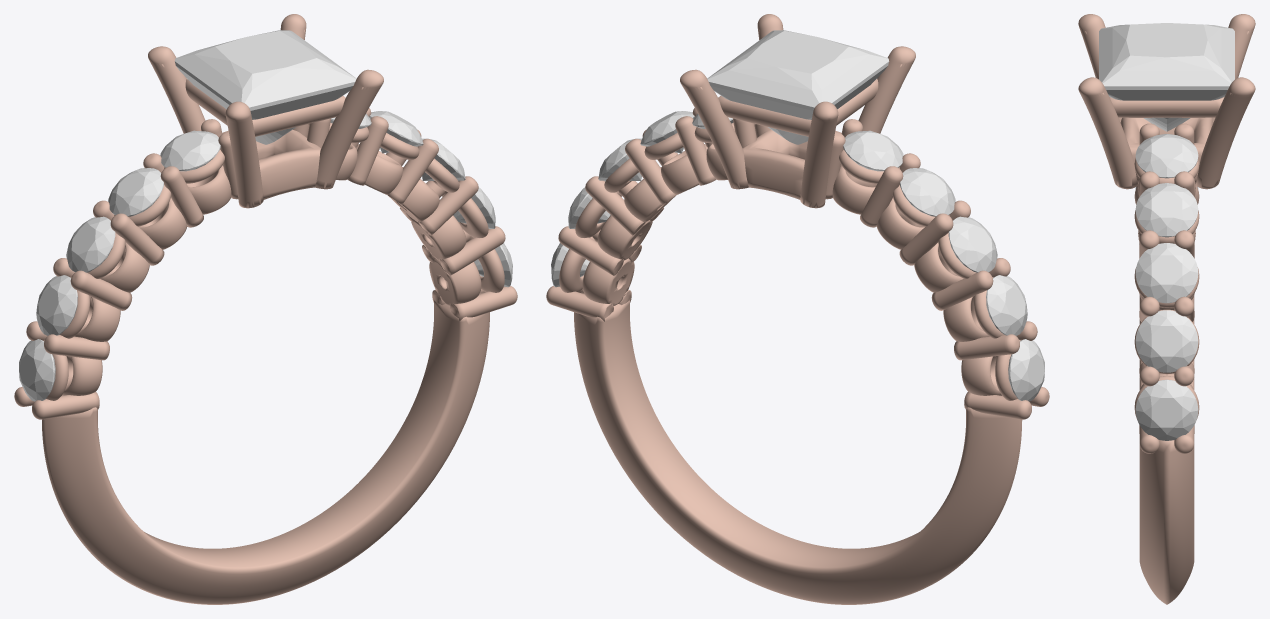
The model's file is diamond-princess-rosegold-4prong-knifeedge-11stone.glb.
3 views of the same model, side by side, from view 1: azimuth 30°, elevation 25°; view 2: azimuth 150°, elevation 25°; view 3: azimuth 270°, elevation 25° (orthographic).
Visible parts, largest first — view 1: metal, stone, side.002, side.003, side.001, side.004, side, side.008, side.007; view 2: metal, stone, side.002, side.003, side.001, side.004, side, side.008, side.007; view 3: metal, stone, side.006, side.005, side.007, side.008, side.009.
Part boxes in pixels (x1,y1,x2,y2): metal: (14,14,517,604); stone: (174,30,356,144); side.002: (66,216,115,272); side.003: (108,168,163,216); side.001: (36,275,77,335); side.004: (160,130,220,171); side: (19,339,55,401); side.008: (369,111,423,153); side.007: (422,138,465,180); metal: (546,14,1049,604); stone: (707,30,889,144); side.002: (948,216,997,272); side.003: (900,168,955,216); side.001: (986,275,1027,335); side.004: (843,130,903,171); side: (1008,339,1044,401); side.008: (640,111,694,153); side.007: (598,138,641,180); metal: (1078,14,1255,604); stone: (1099,23,1234,131); side.006: (1135,310,1198,372); side.005: (1135,379,1198,440); side.007: (1135,243,1198,303); side.008: (1135,183,1198,237); side.009: (1135,134,1198,178).
Size of the model in its own units: 22 by 23.85 by 7.08.
